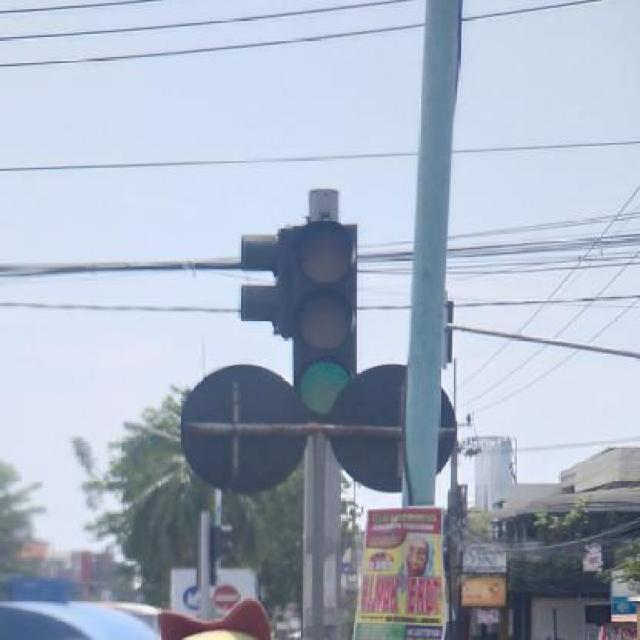traffic light: (293, 220, 357, 423)
